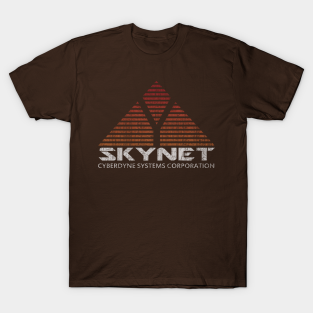design: (96, 79, 218, 169)
